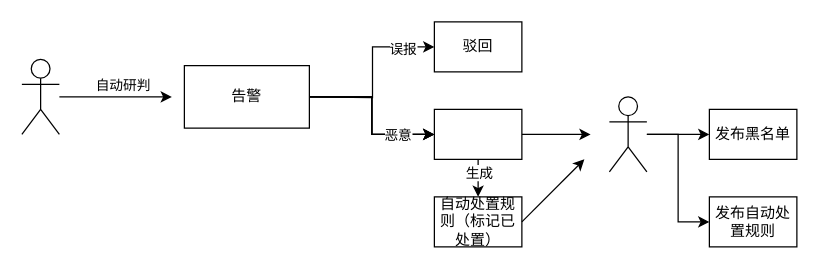
Image size: 819x270. Some labels were removed from this diagram. Each missing label, with the centre of its shape:
"AI" goes at pixel 40 96.
"人工审核" goes at pixel 627 134.
"拉黑IOC" goes at pixel 477 133.
